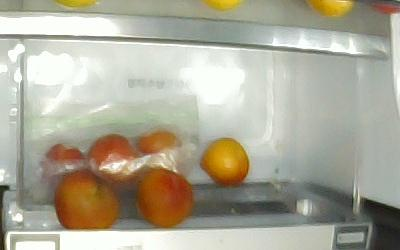prune: (53, 166, 120, 229), (134, 164, 194, 228), (198, 135, 249, 188)
prune_vinyl: (85, 131, 142, 184), (38, 142, 87, 189), (134, 127, 185, 172)
